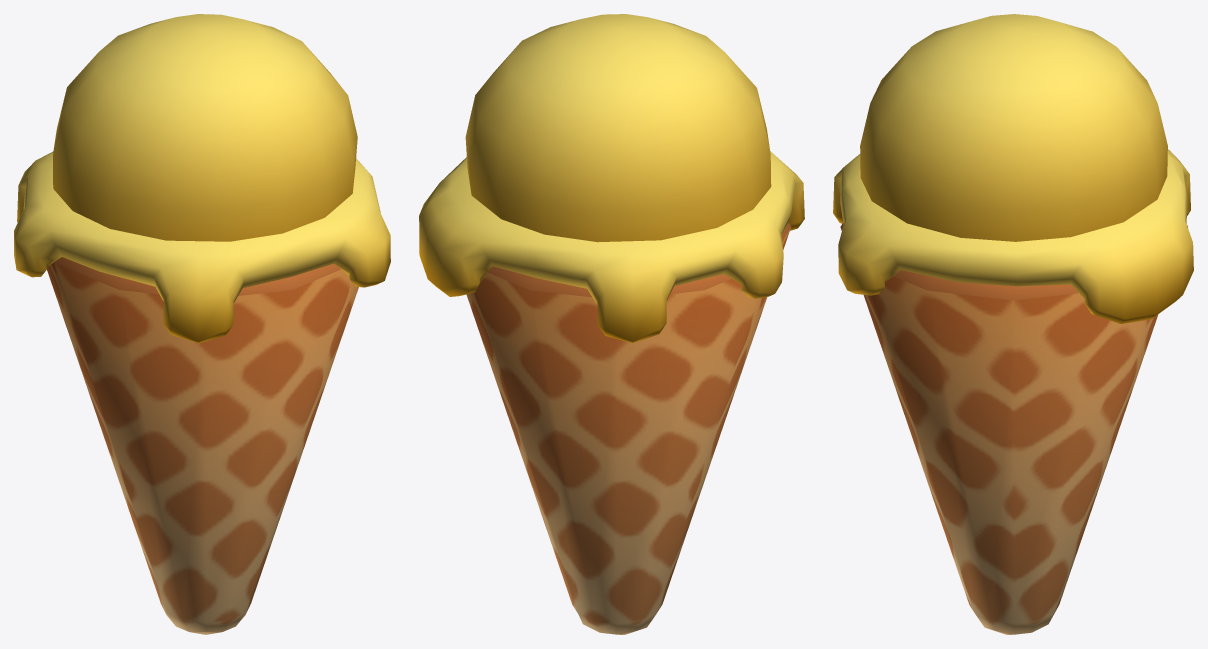
Rendered from m_IceCream08.fbx.
3 renders of one model, left to right at view 1: azimuth 30°, elevation 25°; view 2: azimuth 150°, elevation 25°; view 3: azimuth 270°, elevation 25°, orthographic.
Parts seen in each view (by area): view 1: m_IceCream08; view 2: m_IceCream08; view 3: m_IceCream08.
Boxes of the visible parts, x1,y1,x2,y2 form: m_IceCream08: [14, 14, 390, 634]; m_IceCream08: [419, 14, 804, 634]; m_IceCream08: [833, 14, 1193, 634].
Bounding box in the file's own units: 9.64 × 16.94 × 9.25.
